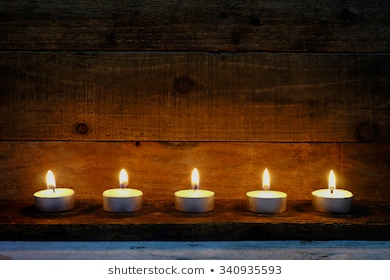Fire: (325, 169, 341, 193), (114, 168, 130, 188), (260, 167, 273, 191), (189, 166, 201, 191), (43, 169, 57, 189)
